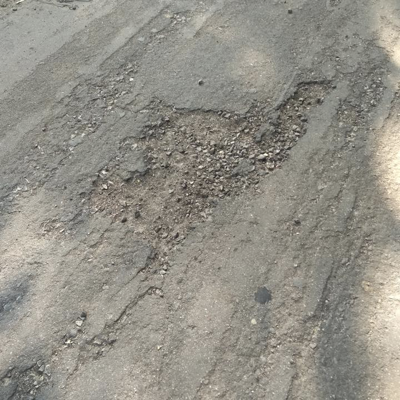pothole: (80, 94, 284, 264), (274, 79, 337, 170)
